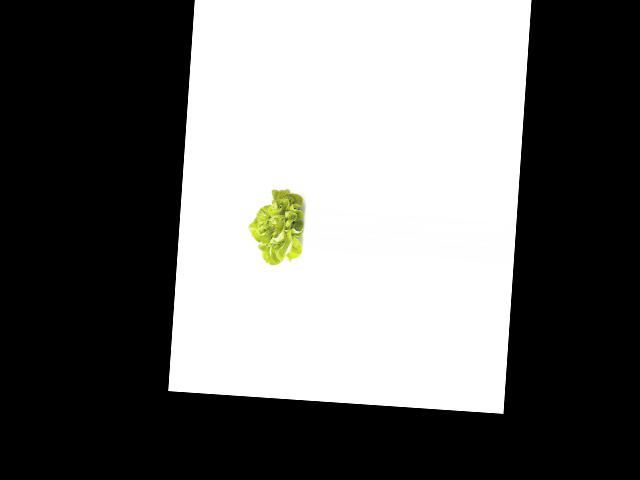lettuce: (246, 185, 307, 269)
